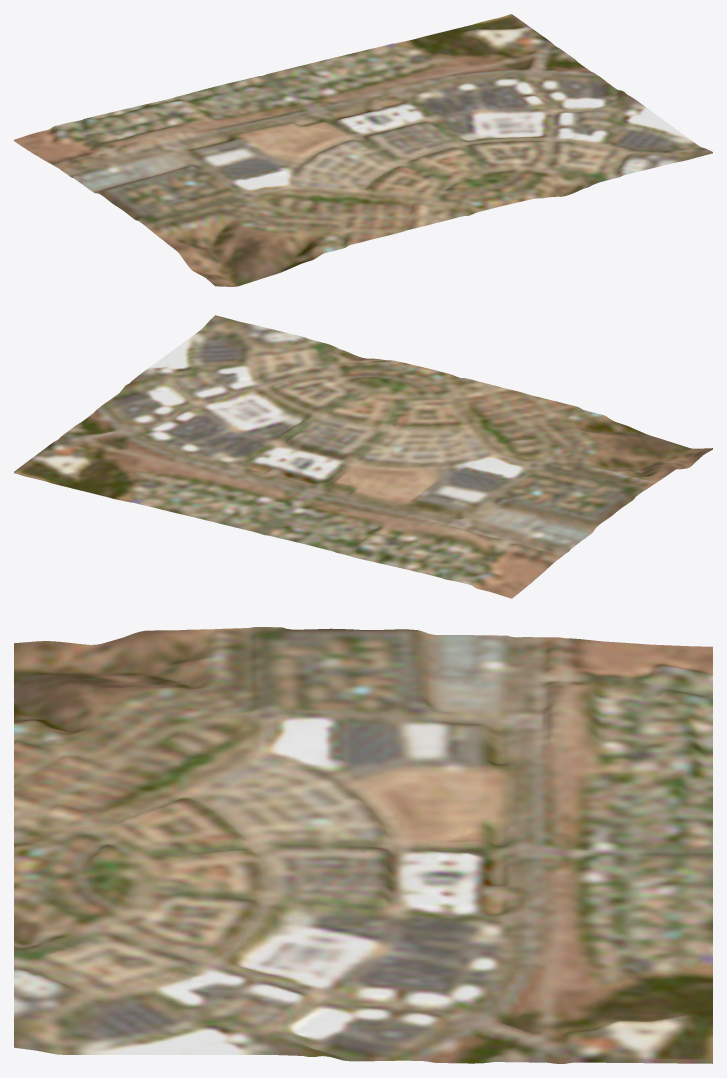
File: terrain_r3_c3.glb
The picture shows the model from 3 angles, top to bottom: view 1: azimuth 30°, elevation 25°; view 2: azimuth 150°, elevation 25°; view 3: azimuth 270°, elevation 25°; orthographic projection. The views are drawn at different scales.
Parts seen in each view (by area): view 1: terrain_r3_c3_lod0; view 2: terrain_r3_c3_lod0; view 3: terrain_r3_c3_lod0.
Part boxes in pixels (x1=…): terrain_r3_c3_lod0: x1=14, y1=14, x2=712, y2=286; terrain_r3_c3_lod0: x1=14, y1=315, x2=712, y2=598; terrain_r3_c3_lod0: x1=14, y1=627, x2=712, y2=1063.
Size of the model in its own units: 1125 by 40.58 by 787.
Materials: 1 (1 with a texture image).
